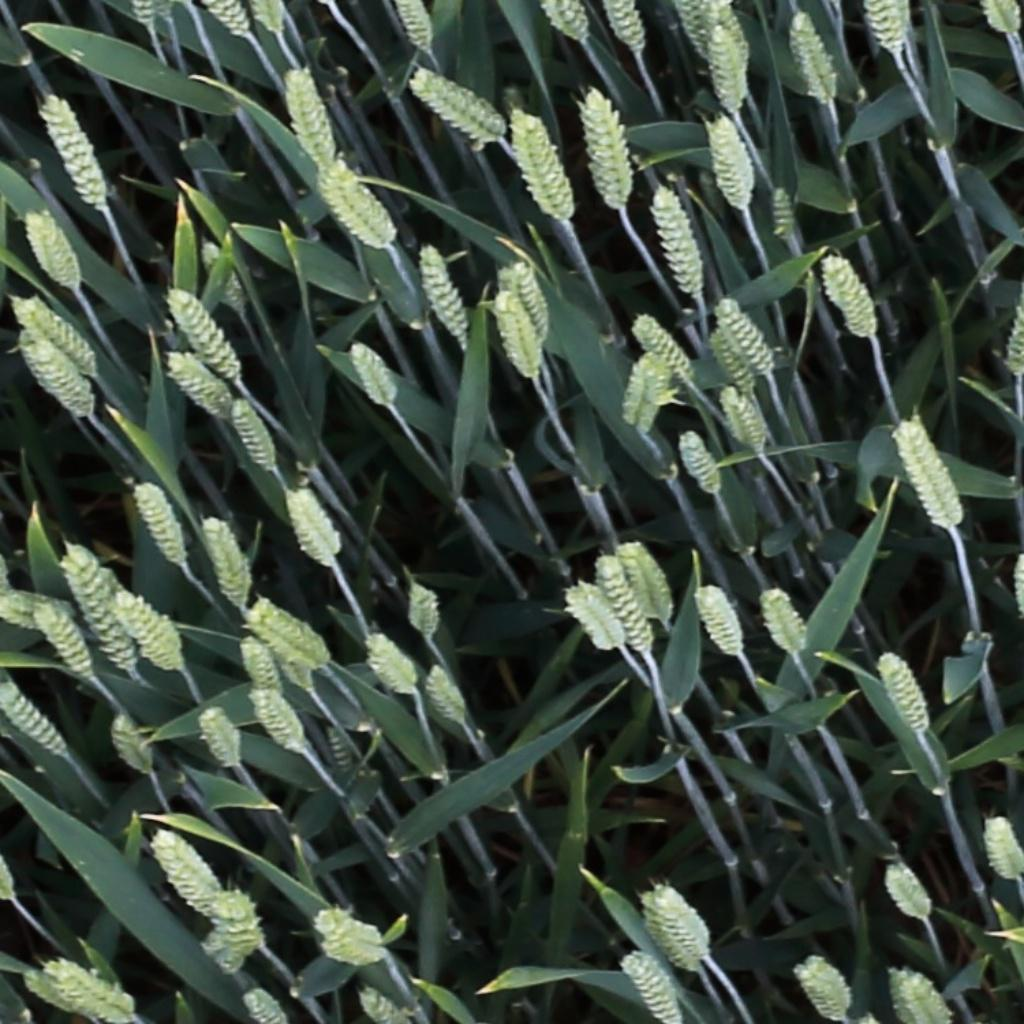0-0: (203, 513, 324, 685), (64, 543, 139, 677), (165, 282, 247, 386), (40, 91, 110, 211), (142, 821, 225, 918), (898, 417, 963, 531), (576, 85, 635, 206), (20, 327, 95, 420), (324, 157, 398, 248), (599, 550, 659, 659), (512, 106, 568, 219), (16, 296, 99, 371), (417, 238, 473, 346), (113, 588, 184, 673), (413, 72, 506, 136), (655, 182, 704, 300), (0, 681, 70, 761), (651, 883, 715, 969), (132, 476, 189, 570), (718, 292, 780, 378), (823, 248, 882, 338), (879, 649, 935, 740), (288, 65, 335, 173), (248, 602, 326, 667), (634, 311, 701, 385), (619, 537, 677, 622), (793, 8, 841, 109), (167, 349, 234, 419), (622, 947, 684, 1022), (494, 285, 543, 379), (712, 109, 757, 210), (694, 580, 749, 662), (24, 204, 77, 289), (288, 487, 342, 570), (566, 582, 629, 653), (38, 609, 96, 686), (709, 319, 761, 404), (210, 900, 275, 967), (229, 393, 281, 476), (61, 961, 143, 1013), (252, 686, 311, 757), (364, 630, 423, 699), (348, 335, 400, 412), (795, 955, 854, 1021), (761, 584, 812, 659), (711, 16, 749, 114), (679, 424, 727, 501), (109, 709, 158, 782), (509, 256, 554, 335), (0, 577, 63, 633), (196, 703, 245, 774), (424, 660, 473, 731), (884, 862, 937, 927), (238, 632, 285, 704), (723, 382, 768, 457), (623, 348, 663, 431), (707, 1, 757, 64), (890, 967, 947, 1022), (984, 812, 1022, 888), (1000, 271, 1024, 390), (22, 963, 85, 1008), (323, 719, 359, 789), (319, 913, 382, 953), (319, 925, 386, 962), (678, 1, 719, 60), (869, 0, 909, 60), (397, 0, 438, 58), (607, 1, 649, 55), (544, 0, 592, 45), (357, 984, 409, 1024), (409, 576, 438, 643), (206, 0, 252, 42), (243, 984, 286, 1024), (772, 177, 797, 243), (985, 0, 1021, 40), (0, 824, 17, 907), (255, 0, 288, 40), (132, 0, 158, 36), (148, 0, 177, 31)
